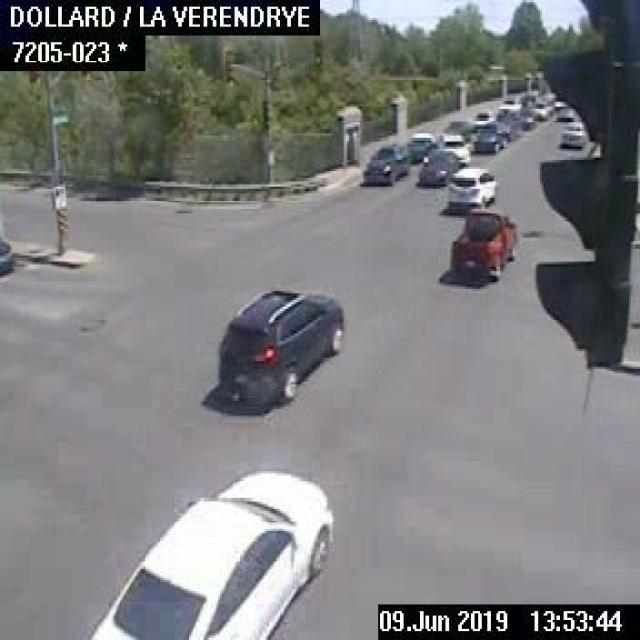vehicle: (82, 464, 329, 638), (214, 289, 345, 398), (448, 210, 515, 276), (444, 164, 496, 211), (361, 143, 409, 182), (472, 117, 510, 156), (420, 148, 454, 186), (437, 134, 469, 166), (404, 131, 432, 166), (440, 118, 470, 145), (0, 238, 20, 276), (561, 120, 583, 149), (497, 92, 523, 115), (530, 98, 553, 119), (467, 109, 492, 126), (552, 105, 574, 121)
